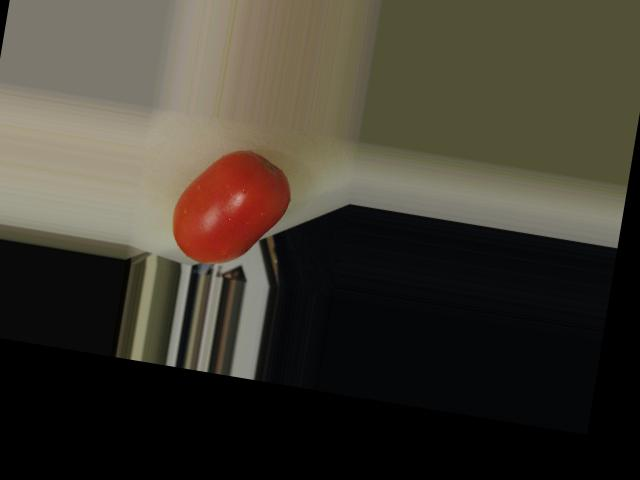tomato: (166, 141, 296, 275)
